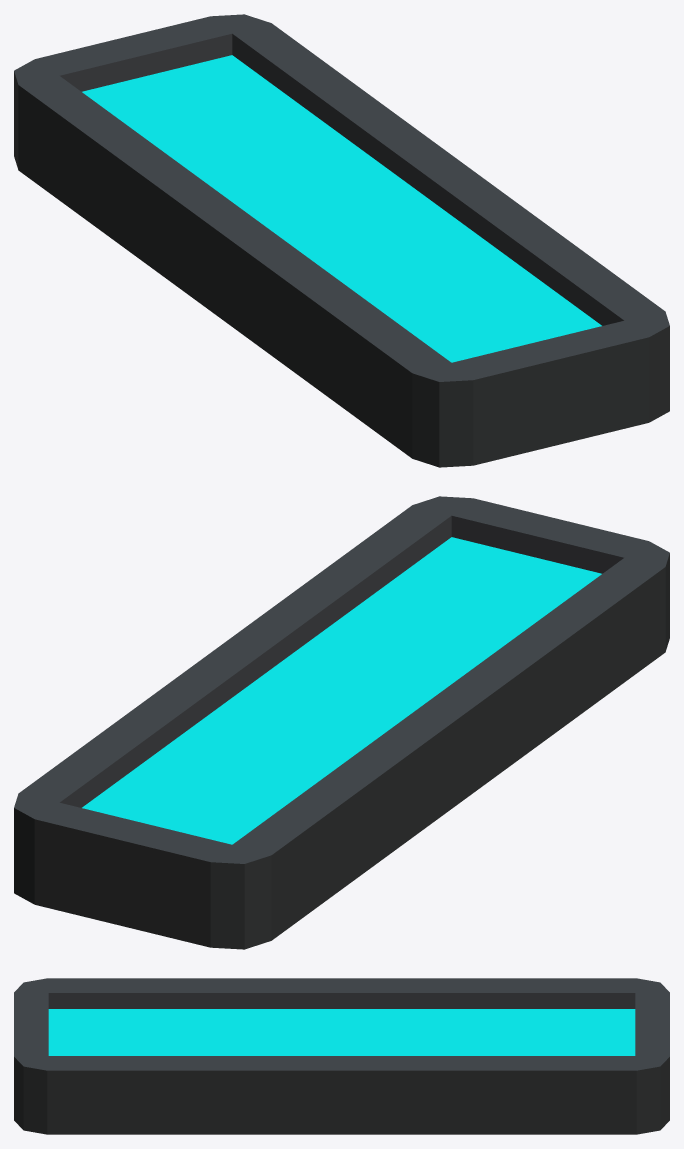
File: LightBlock_02.glb
The picture shows the model from 3 angles, top to bottom: view 1: azimuth 30°, elevation 25°; view 2: azimuth 150°, elevation 25°; view 3: azimuth 270°, elevation 25°; orthographic projection. The views are drawn at different scales.
Visible parts, largest first — view 1: LightBlock_02; view 2: LightBlock_02; view 3: LightBlock_02.
Part boxes in pixels (<box>): LightBlock_02: <box>14,14,669,467</box>; LightBlock_02: <box>14,496,669,949</box>; LightBlock_02: <box>14,978,669,1134</box>.
Size of what is drawn, in the model's own units: 0.6667 by 0.2152 by 2.
Materials: 1 (1 with a texture image).
